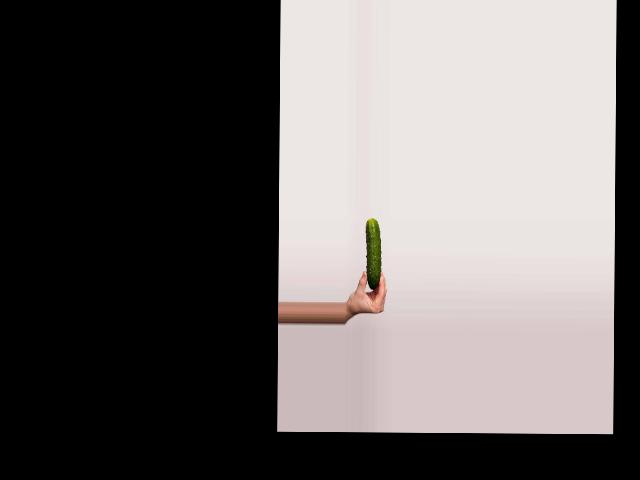cucumber: (366, 218, 381, 289)
